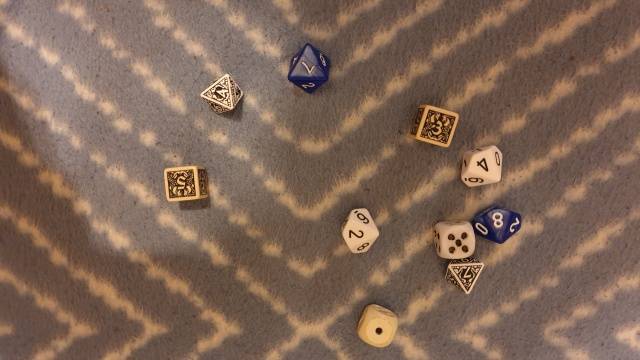d10-2: (337, 205, 379, 256)
d10-4: (457, 140, 515, 195)
d10-7: (283, 39, 338, 97)
d10-8: (472, 204, 526, 245)
d6-1: (353, 300, 401, 351)
d6-5: (432, 218, 477, 260)
d6p-3: (409, 99, 459, 152)
d6p-5: (163, 163, 213, 206)
d8p-4: (198, 70, 247, 119)
d8p-7: (441, 254, 489, 301)
